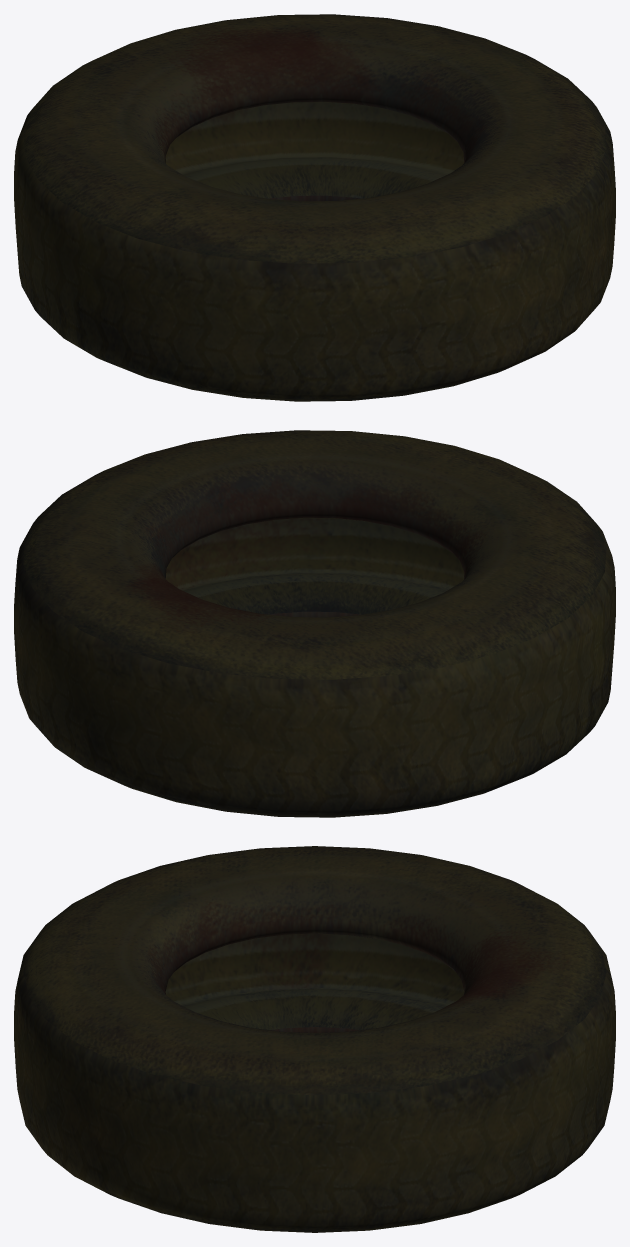
File: Tyre.fbx
3 renders of one model, top to bottom at view 1: azimuth 30°, elevation 25°; view 2: azimuth 150°, elevation 25°; view 3: azimuth 270°, elevation 25°, orthographic.
Visible parts, largest first — view 1: Tyre_HP; view 2: Tyre_HP; view 3: Tyre_HP.
Part boxes in pixels (x1,y1,x2,y2): Tyre_HP: [14, 14, 615, 401]; Tyre_HP: [14, 430, 615, 817]; Tyre_HP: [14, 846, 615, 1232].
Size of the model in its own units: 144 by 46.3 by 144.
